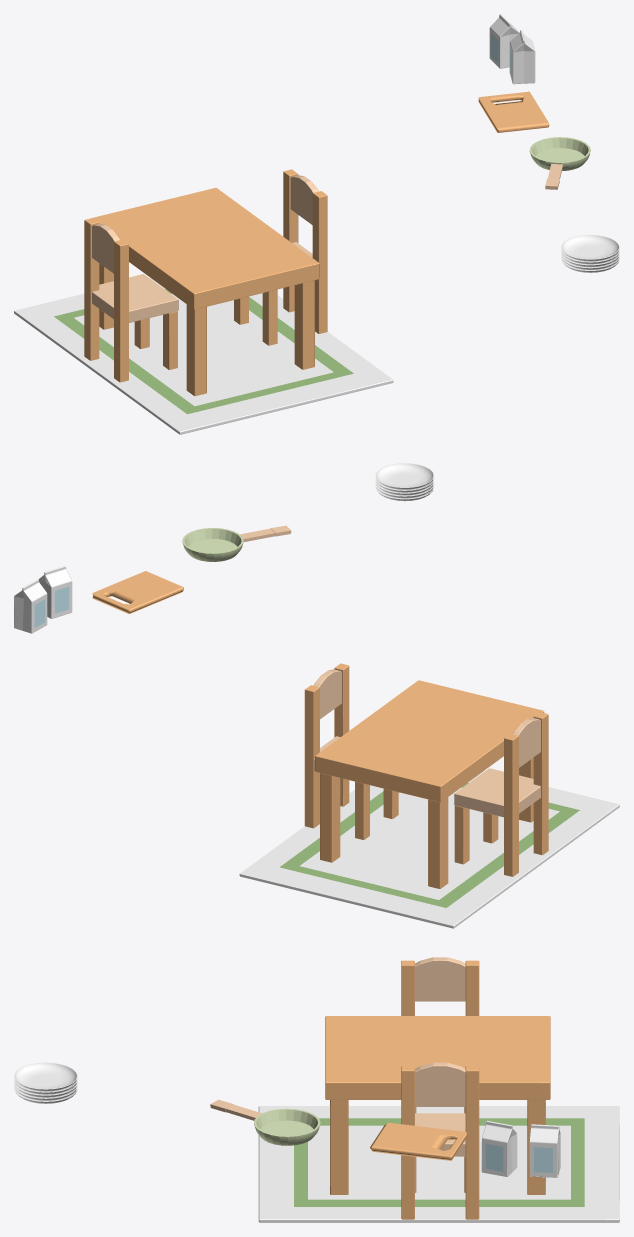
File: Kitchen.fbx
3 renders of one model, top to bottom at view 1: azimuth 30°, elevation 25°; view 2: azimuth 150°, elevation 25°; view 3: azimuth 270°, elevation 25°, orthographic. The views are drawn at different scales.
Parts seen in each view (by area): view 1: Carpet, Table, Chair.001, Chair, Cutting board, Frying pan, Stack of plate, Milk cartoon.001, Milk cartoon; view 2: Carpet, Table, Chair.001, Chair, Cutting board, Frying pan, Stack of plate, Milk cartoon, Milk cartoon.001; view 3: Carpet, Table, Chair, Chair.001, Cutting board, Frying pan, Stack of plate, Milk cartoon.001, Milk cartoon.
Part boxes in pixels (x1,y1,x2,y2): Carpet: [14, 277, 393, 434]; Table: [93, 187, 319, 396]; Chair.001: [84, 218, 178, 382]; Chair: [234, 169, 327, 345]; Cutting board: [478, 91, 549, 132]; Frying pan: [529, 137, 590, 189]; Stack of plate: [561, 235, 619, 272]; Milk cartoon.001: [509, 30, 535, 84]; Milk cartoon: [489, 14, 519, 68]; Carpet: [239, 771, 619, 928]; Table: [315, 680, 544, 888]; Chair.001: [454, 712, 548, 876]; Chair: [304, 663, 398, 839]; Cutting board: [92, 571, 183, 614]; Frying pan: [182, 525, 291, 561]; Stack of plate: [375, 463, 434, 501]; Milk cartoon: [14, 579, 47, 633]; Milk cartoon.001: [39, 565, 72, 618]; Carpet: [258, 1106, 619, 1222]; Table: [325, 1016, 550, 1194]; Chair: [401, 1062, 479, 1219]; Chair.001: [401, 957, 479, 1113]; Cutting board: [370, 1122, 466, 1160]; Frying pan: [210, 1099, 320, 1145]; Stack of plate: [14, 1062, 77, 1103]; Milk cartoon.001: [481, 1121, 517, 1177]; Milk cartoon: [529, 1124, 560, 1177].
Bounding box in the file's own units: 633 × 270 × 653.
